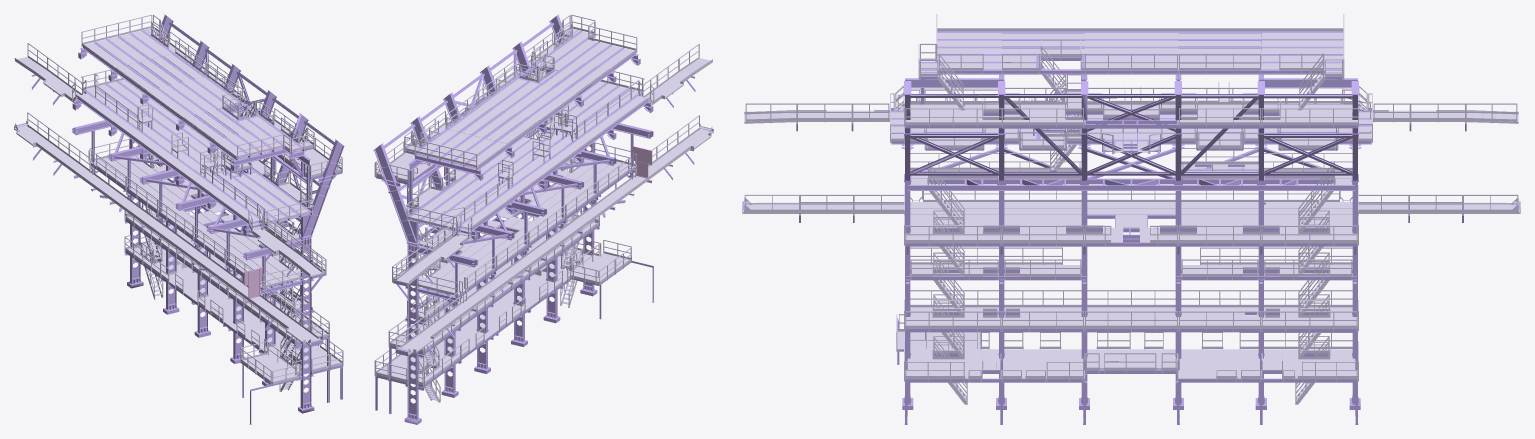
The model's file is hs-usa.glb.
3 renders of one model, left to right at view 1: azimuth 30°, elevation 25°; view 2: azimuth 150°, elevation 25°; view 3: azimuth 270°, elevation 25°, orthographic. The views are drawn at different scales.
Visible parts, largest first — view 1: _000001E921335F00_IndexedFaceSet, _000001E91EBD7450_IndexedFaceSet, _000001E91FBB8510_0006_IndexedFaceSet, _000001E92133F5F0_IndexedFaceSet; view 2: _000001E921335F00_IndexedFaceSet, _000001E91EBD7450_IndexedFaceSet, _000001E91FBB8510_0006_IndexedFaceSet, _000001E92133F5F0_IndexedFaceSet; view 3: _000001E921335F00_IndexedFaceSet, _000001E91FBB8510_0006_IndexedFaceSet, _000001E91EBD7450_IndexedFaceSet.
Part boxes in pixels (x1,y1,x2,y2): _000001E921335F00_IndexedFaceSet: [14, 29, 341, 386]; _000001E91EBD7450_IndexedFaceSet: [14, 14, 344, 424]; _000001E91FBB8510_0006_IndexedFaceSet: [14, 14, 343, 391]; _000001E92133F5F0_IndexedFaceSet: [216, 152, 295, 375]; _000001E921335F00_IndexedFaceSet: [376, 29, 713, 384]; _000001E91EBD7450_IndexedFaceSet: [373, 14, 713, 424]; _000001E91FBB8510_0006_IndexedFaceSet: [374, 14, 712, 402]; _000001E92133F5F0_IndexedFaceSet: [559, 113, 652, 256]; _000001E921335F00_IndexedFaceSet: [743, 33, 1519, 379]; _000001E91FBB8510_0006_IndexedFaceSet: [744, 14, 1518, 404]; _000001E91EBD7450_IndexedFaceSet: [742, 31, 1520, 424].
Size of the model in its own units: 8.43 by 21.35 by 42.24.
